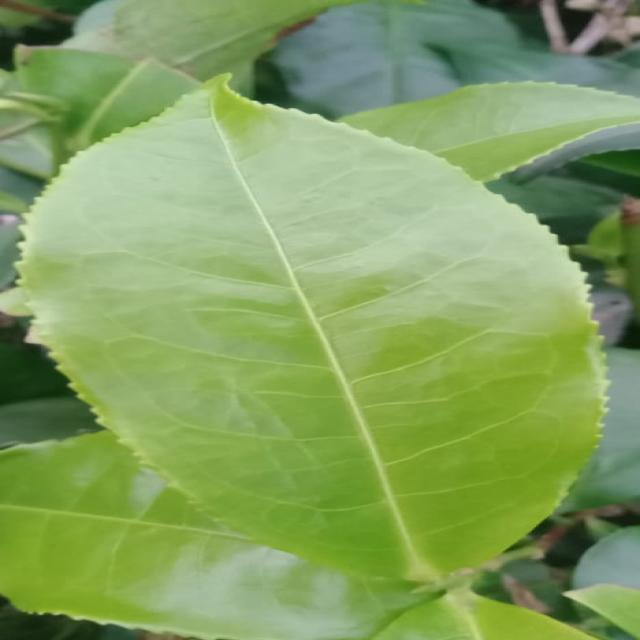Category B(2-4 days): (21, 65, 622, 609)
